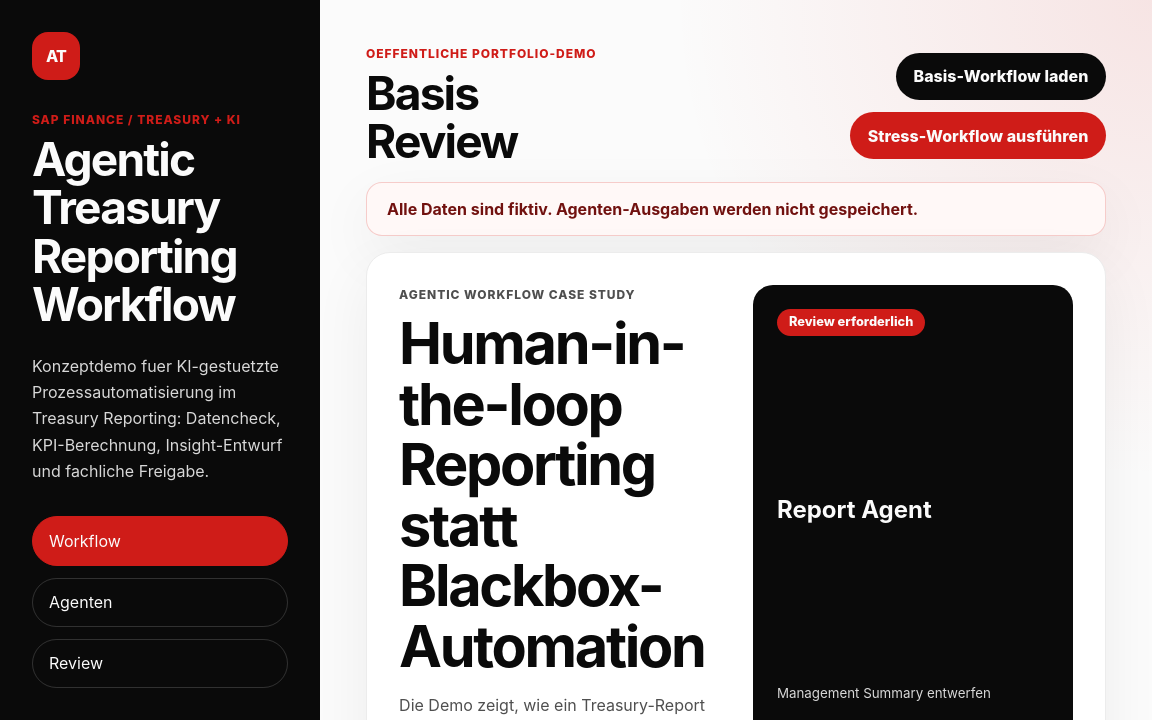
Test: Agentic Treasury Reporting Workflow app › runs the stress workflow and changes report output without browser storage
This screenshot has width=1152, height=720.
Click the button "Stress-Workflow ausführen" at (978, 136), box [850,112,1106,159]
(page scrolled)
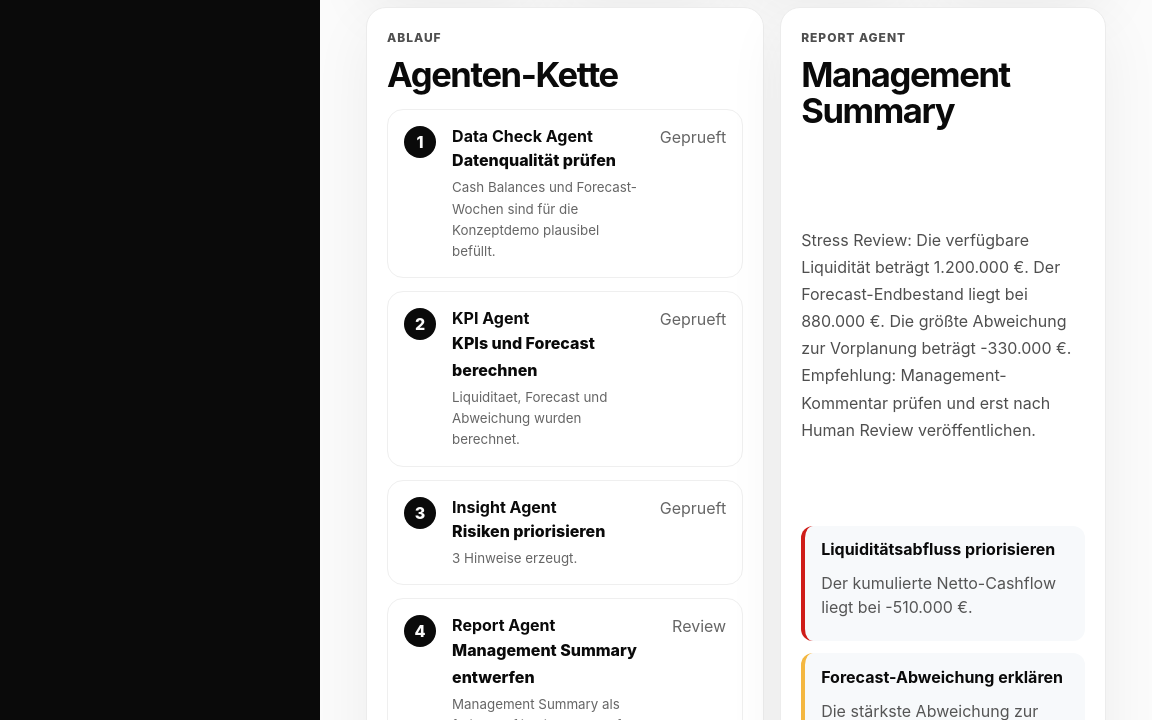
Result: the text "880.000" is shown at [801,230,1071,440]
